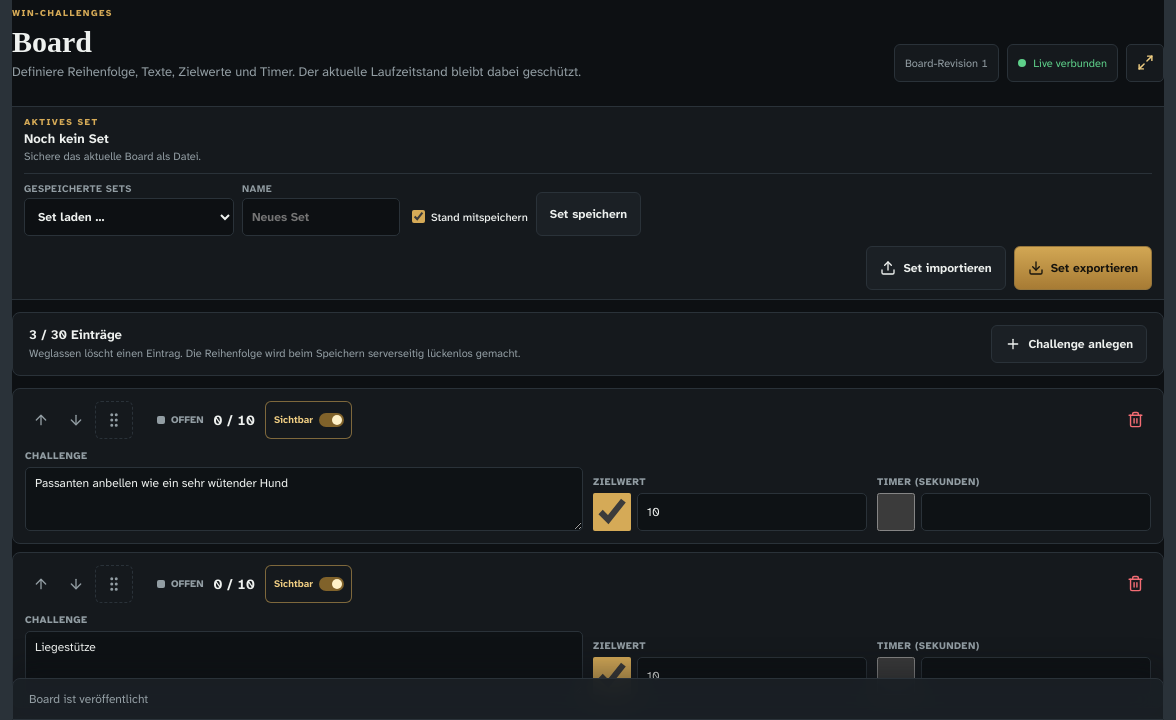
ChallengeBoard › zeigt beim Set speichern mehrere Feldfehler mit dem Titel der betroffenen Challenge
The image size is (1176, 720).
Step 1. Type "Mein Set" into the field named "Name des Server-Sets" → point(321, 217), box left=242, top=198, right=400, bottom=236
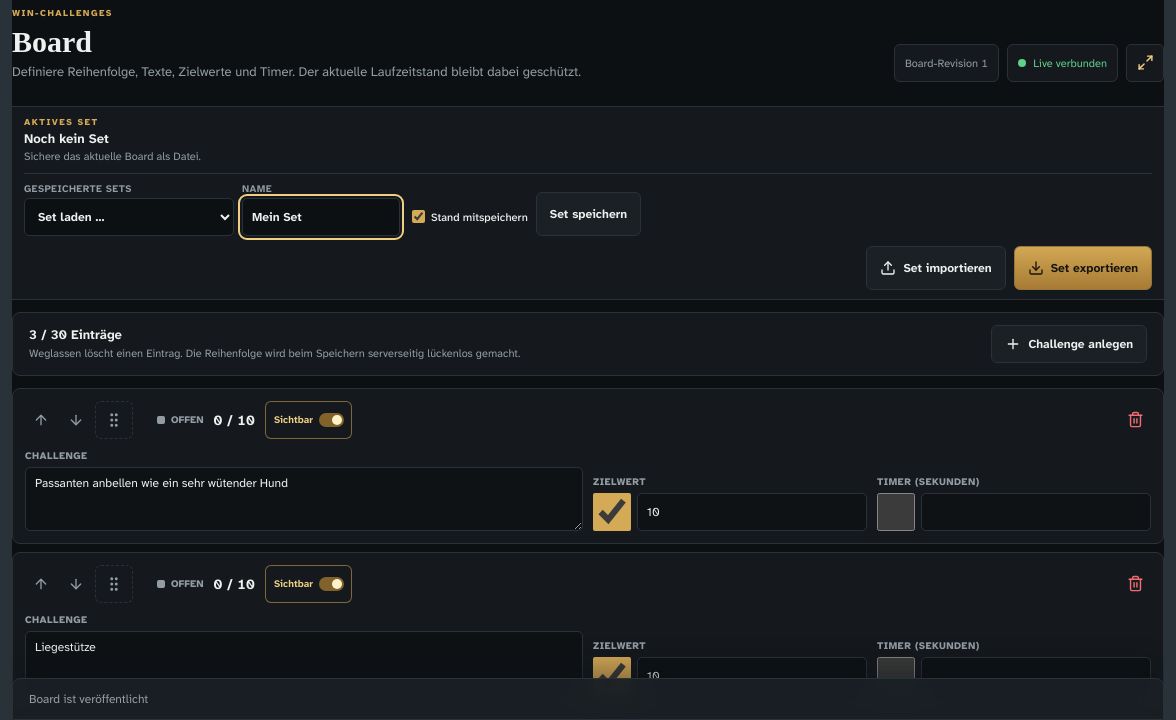
Step 2. Click the button "Set speichern" → point(588, 214), box left=536, top=192, right=641, bottom=236
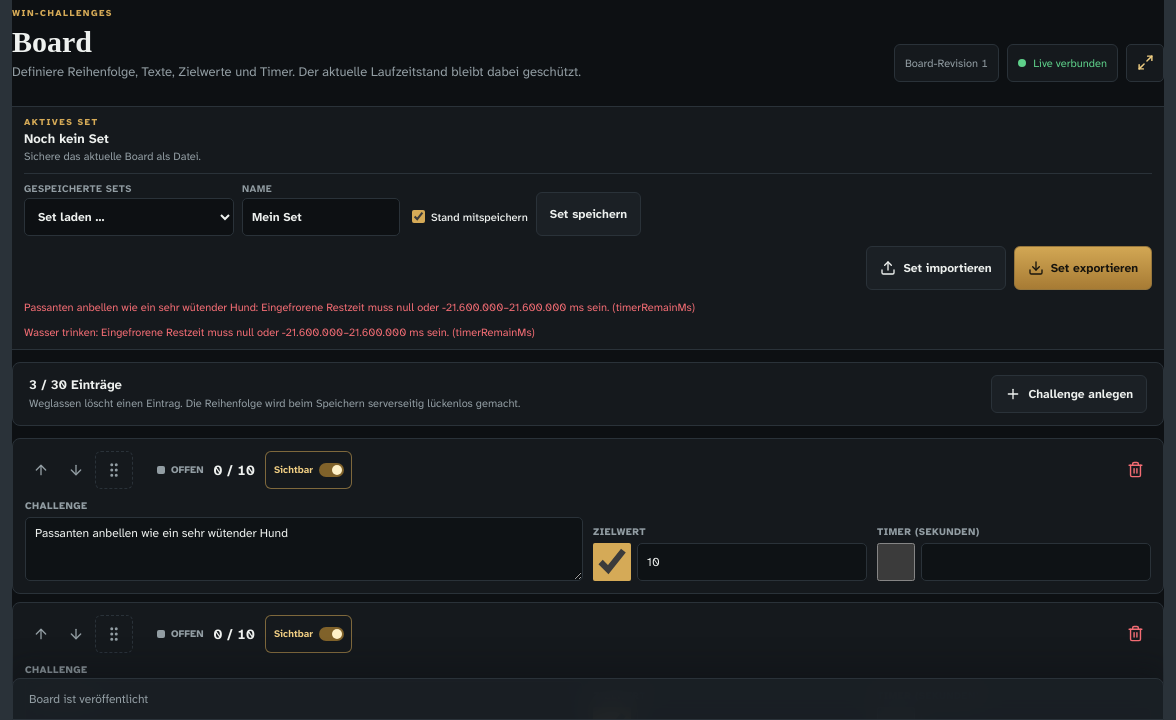
Expected: the text "Passanten anbellen wie ein sehr wütender Hund: Eingefrorene Restzeit muss null oder -21.600.000–21.600.000 ms sein. (tim" is shown, left=24, top=300, right=695, bottom=314
Expected: the text "Wasser trinken: Eingefrorene Restzeit muss null oder -21.600.000–21.600.000 ms sein. (timerRemainMs)" is shown, left=24, top=325, right=535, bottom=339
Expected: the number of messages with class "challenge-set-status--error" is 2, left=24, top=300, right=695, bottom=314; left=24, top=325, right=535, bottom=339
